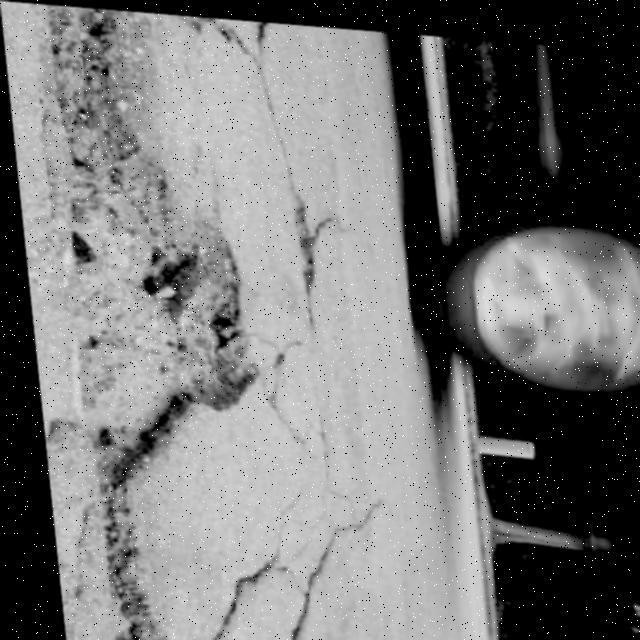pothole: (34, 2, 269, 498)
